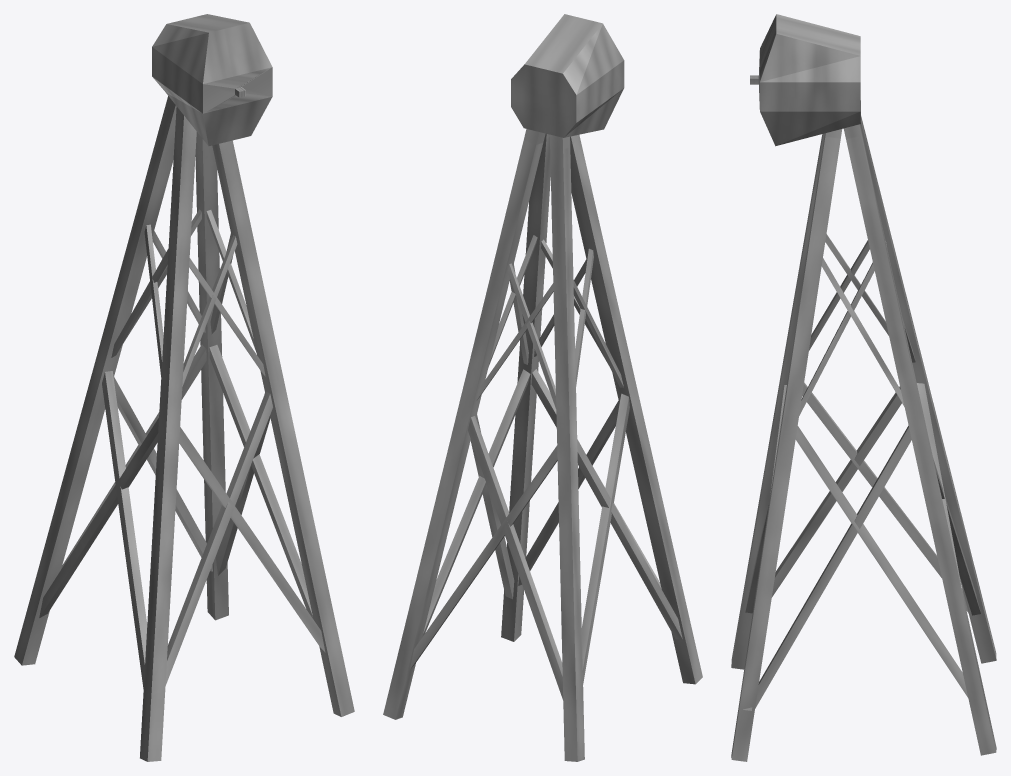
The model's file is modelWindmill.obj.
3 views of the same model, side by side, from view 1: azimuth 30°, elevation 25°; view 2: azimuth 150°, elevation 25°; view 3: azimuth 270°, elevation 25° (orthographic). The views are drawn at different scales.
Parts seen in each view (by area): view 1: Cube; view 2: Cube; view 3: Cube.
Part boxes in pixels (box(x1,y1,x2,y2)): Cube: box(14, 14, 354, 761); Cube: box(383, 14, 702, 761); Cube: box(731, 14, 996, 761).
Size of the model in its own units: 0.9848 by 3.16 by 1.1.
